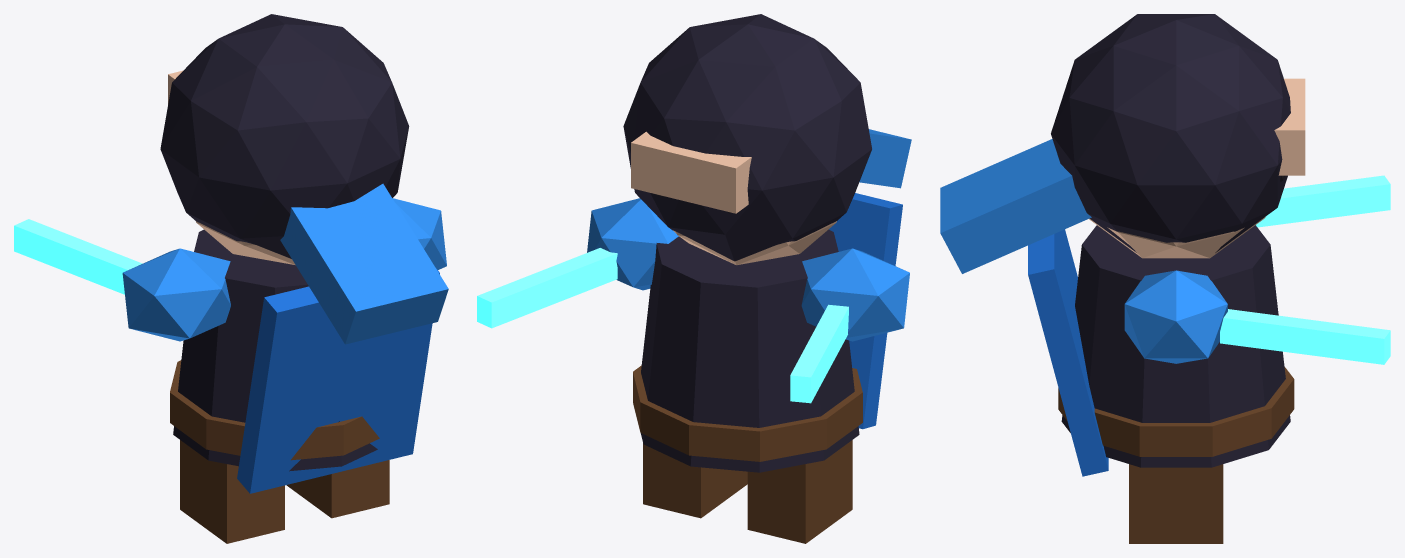
The model's file is unit-assassin.glb.
The picture shows the model from 3 angles, left to right: view 1: azimuth 30°, elevation 25°; view 2: azimuth 150°, elevation 25°; view 3: azimuth 270°, elevation 25°; orthographic projection.
Parts seen in each view (by area): view 1: Unit_Assassin; view 2: Unit_Assassin; view 3: Unit_Assassin.
Part boxes in pixels (box(x1,y1,x2,y2)): Unit_Assassin: box(14, 14, 448, 543); Unit_Assassin: box(477, 14, 911, 543); Unit_Assassin: box(940, 14, 1390, 543).
Size of the model in its own units: 1.08 by 1.49 by 1.26.
